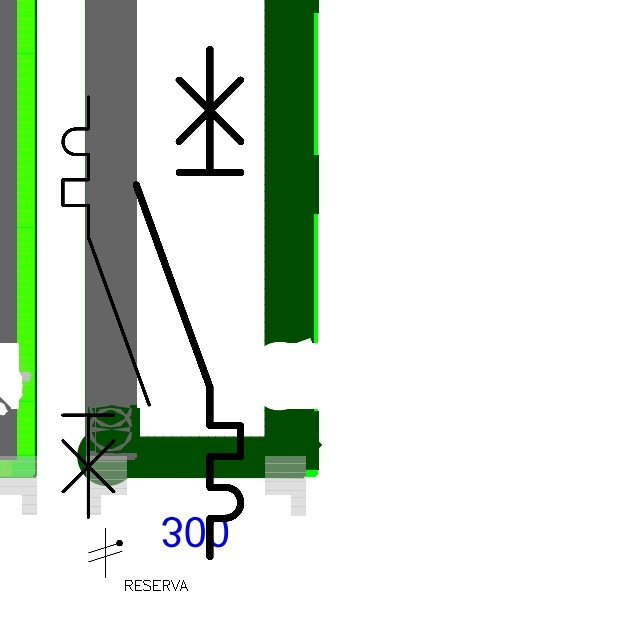interruptor_termomagnetico: (123, 36, 254, 570), (52, 86, 160, 528)
